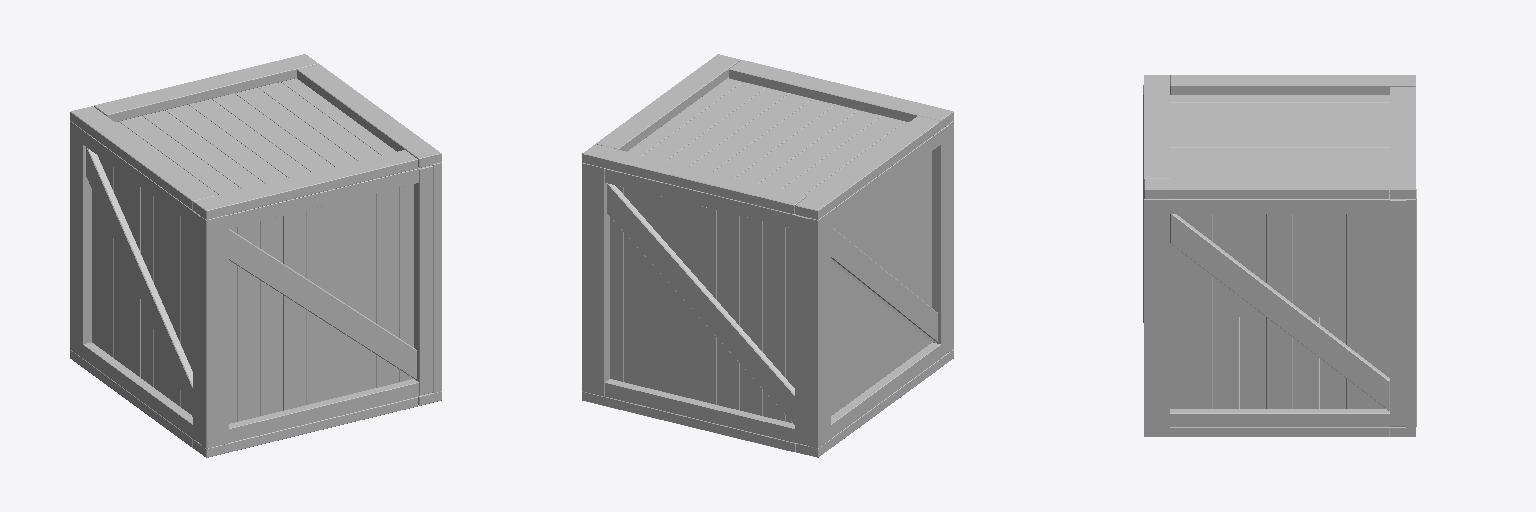
File: Crate.obj
3 views of the same model, side by side, from view 1: azimuth 30°, elevation 25°; view 2: azimuth 150°, elevation 25°; view 3: azimuth 270°, elevation 25° (orthographic).
Visible parts, largest first — view 1: Crate; view 2: Crate; view 3: Crate.
Part boxes in pixels (left/top/right/bottom): Crate: left=70, top=54, right=441, bottom=457; Crate: left=582, top=54, right=953, bottom=457; Crate: left=1143, top=75, right=1416, bottom=436.
Size of the model in its own units: 103 by 103 by 103.